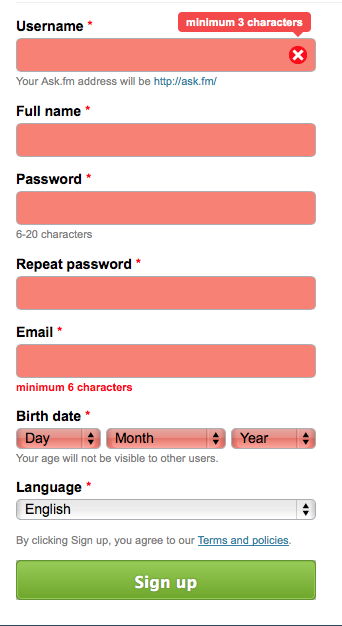error_field: (15, 36, 317, 73), (14, 342, 316, 379), (14, 275, 316, 312), (14, 189, 316, 226), (14, 122, 316, 159), (106, 427, 227, 450), (232, 427, 316, 450), (17, 427, 100, 449)
error_message: (13, 380, 133, 394), (185, 16, 305, 28)
